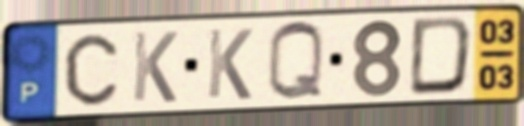8: (350, 17, 405, 100)
C: (61, 31, 121, 109)
D: (406, 14, 477, 98)
K: (129, 29, 180, 106), (204, 26, 255, 103)
Q: (265, 19, 327, 105)
